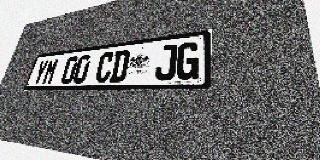0: (72, 54, 92, 84), (60, 56, 79, 84)
C: (94, 51, 115, 83)
D: (109, 49, 131, 82)
G: (175, 41, 200, 80)
J: (154, 44, 178, 81)
M: (41, 58, 60, 85)
Y: (32, 59, 50, 85)
